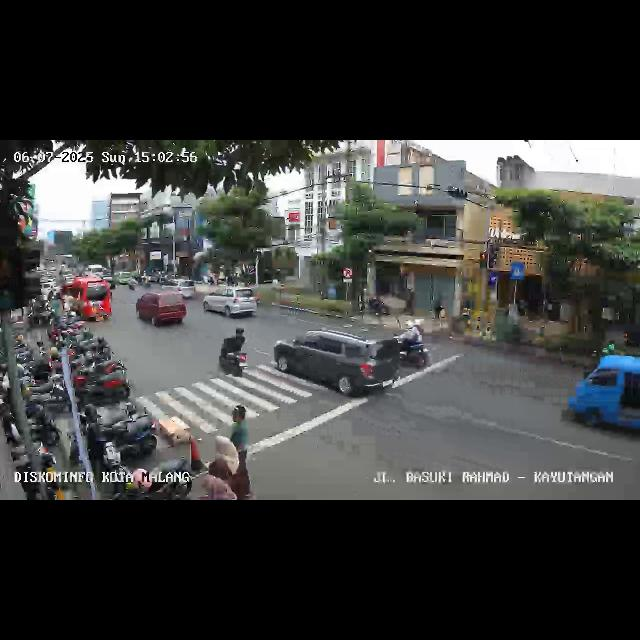car: (276, 327, 416, 399), (568, 358, 640, 444), (65, 278, 112, 324), (134, 290, 188, 330), (203, 287, 259, 321), (158, 278, 200, 302), (115, 270, 138, 288)
motorcycle: (376, 322, 430, 368), (217, 326, 250, 378)
person: (202, 432, 240, 500), (231, 404, 253, 500)
